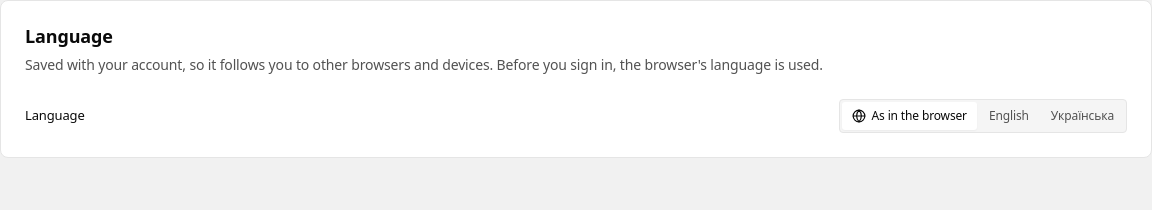
Test: LanguageCard › says Saved. when the choice leaves the app in the language it was in
Click the radio button labelled "English".
click(1009, 115)  # box [989, 106, 1029, 124]
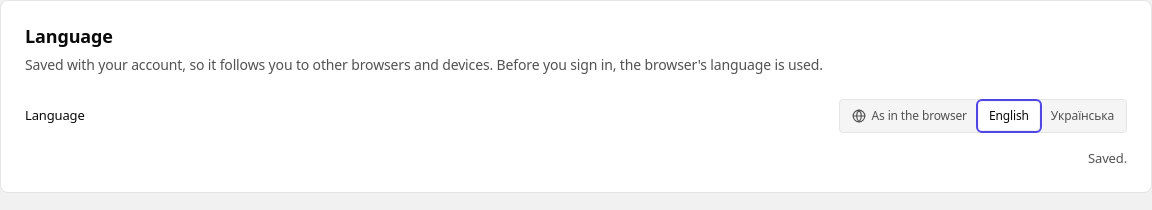
Expected: the radio button labelled "English" is checked, [979, 102, 1039, 130]
Expected: the message reads "Saved.", [1088, 148, 1127, 166]
